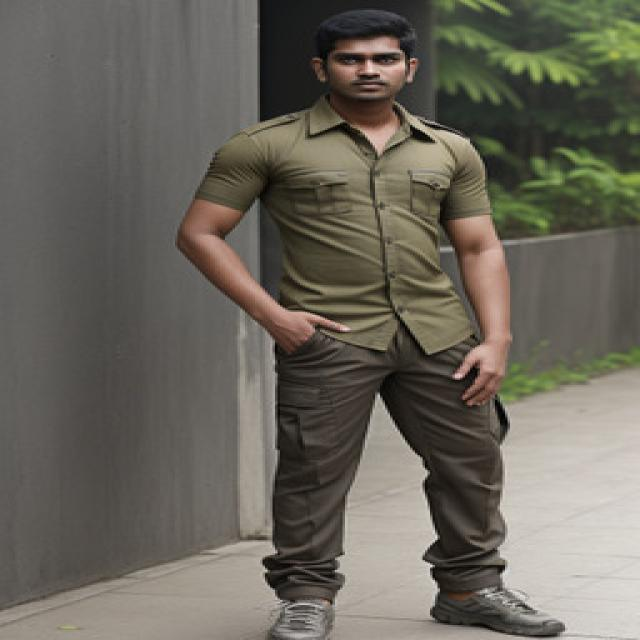Ai human 2: (158, 5, 574, 640)
